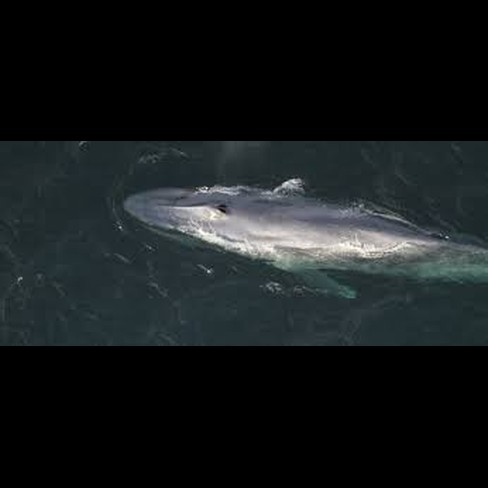bluewhale: (119, 173, 486, 308)
